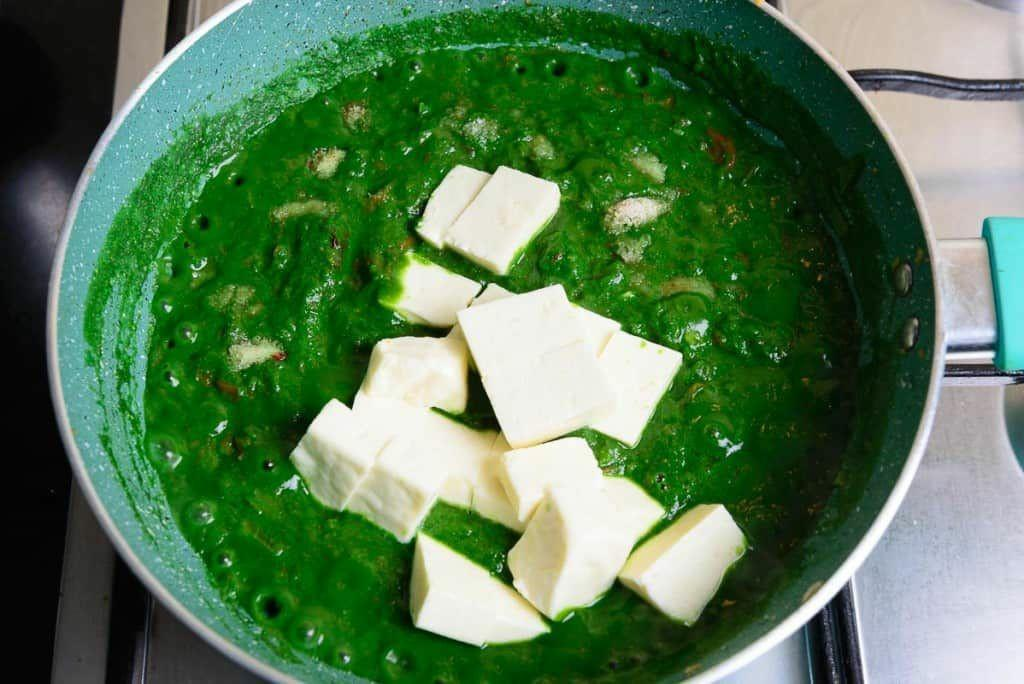PalakPaneer: (149, 45, 862, 684)
